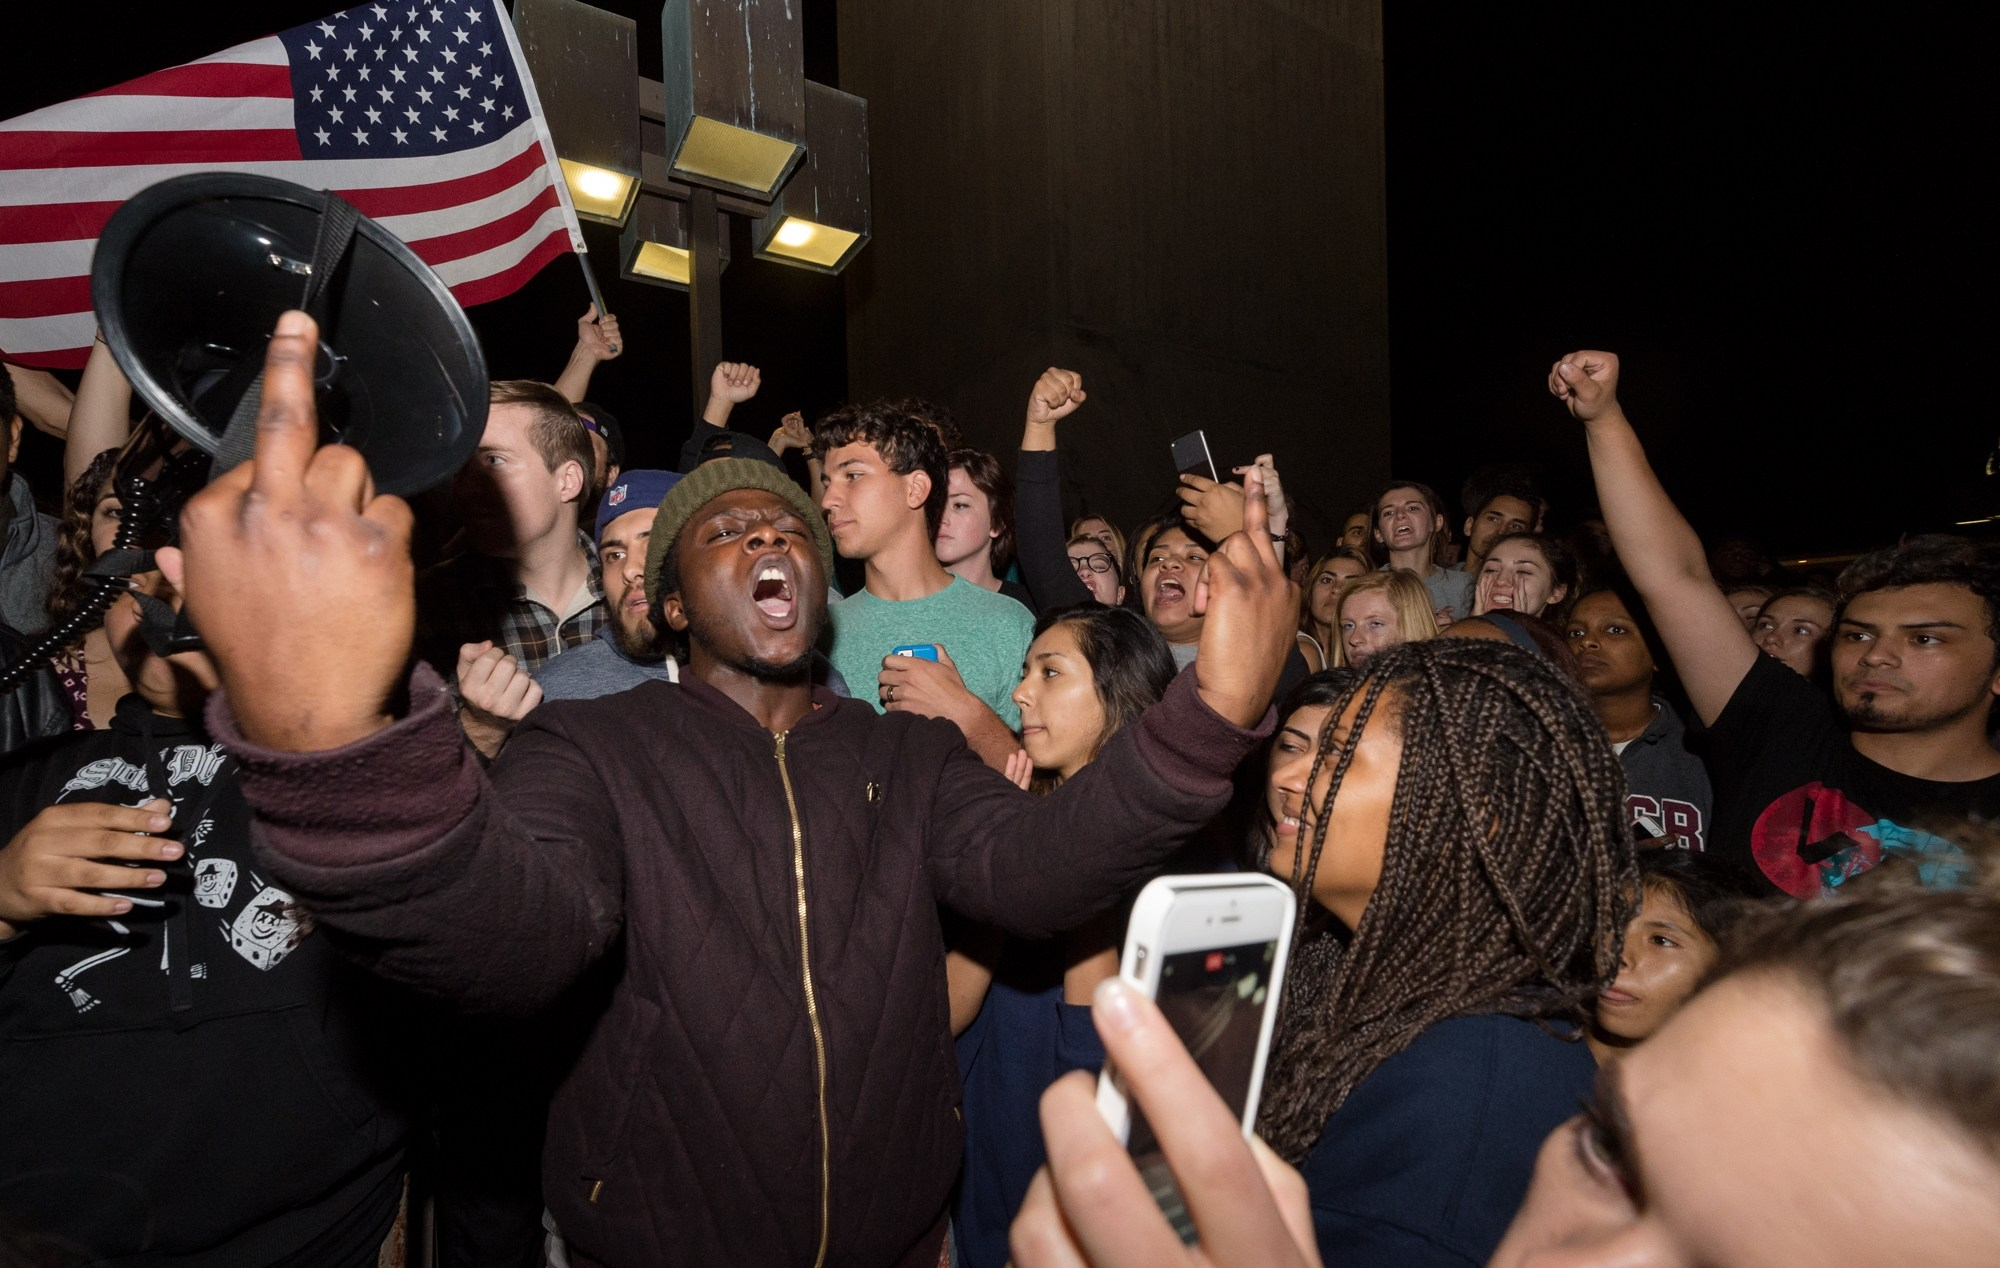angry: (689, 487, 845, 680)
